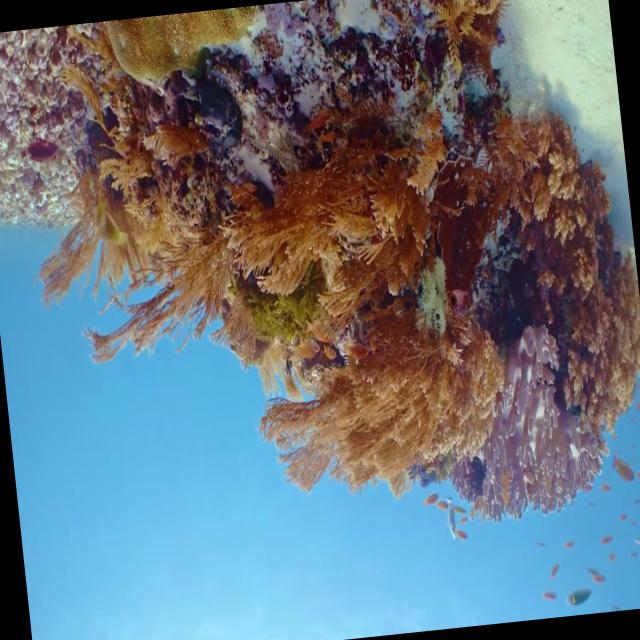fish: (608, 444, 637, 488), (562, 581, 596, 616)
